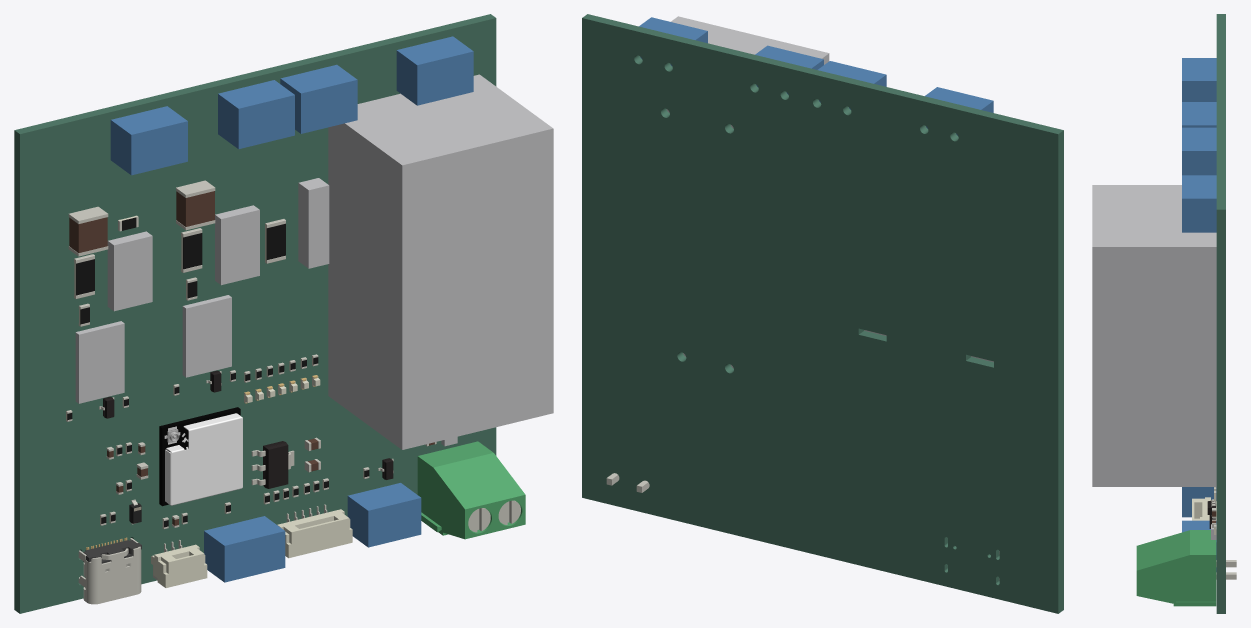
Rendered from board.glb.
3 views of the same model, side by side, from view 1: azimuth 30°, elevation 25°; view 2: azimuth 150°, elevation 25°; view 3: azimuth 270°, elevation 25° (orthographic). The views are drawn at different scales.
Parts seen in each view (by area): view 1: =>[0:1:1:34], PS1, =>[0:1:1:25]_985e35, =>[0:1:1:23]_5067a2, J12, J15, J14, J10, J13, J2, U8, U9 (+11 smaller); view 2: =>[0:1:1:34], PS1, J14, J15, J12, J13; view 3: PS1, =>[0:1:1:34], =>[0:1:1:25]_985e35, J12, J13, J15, J14, J10, =>[0:1:1:31]_3c3c9b, J2.
Part boxes in pixels (x1=…): =>[0:1:1:34]: x1=14, y1=14, x2=496, y2=613; PS1: x1=328, y1=74, x2=553, y2=449; =>[0:1:1:25]_985e35: x1=417, y1=441, x2=525, y2=539; =>[0:1:1:23]_5067a2: x1=165, y1=413, x2=242, y2=505; J12: x1=396, y1=36, x2=473, y2=105; J15: x1=110, y1=106, x2=187, y2=175; J14: x1=218, y1=80, x2=294, y2=149; J10: x1=204, y1=516, x2=285, y2=582; J13: x1=280, y1=64, x2=357, y2=133; J2: x1=347, y1=483, x2=421, y2=547; U8: x1=182, y1=295, x2=231, y2=377; U9: x1=75, y1=321, x2=124, y2=403; =>[0:1:1:34]: x1=582, y1=14, x2=1063, y2=613; PS1: x1=666, y1=16, x2=829, y2=368; J14: x1=818, y1=61, x2=886, y2=109; J15: x1=925, y1=87, x2=993, y2=135; J12: x1=639, y1=17, x2=707, y2=66; J13: x1=755, y1=45, x2=823, y2=94; PS1: x1=1092, y1=185, x2=1216, y2=486; =>[0:1:1:34]: x1=1216, y1=14, x2=1225, y2=613; =>[0:1:1:25]_985e35: x1=1136, y1=530, x2=1216, y2=606; J12: x1=1182, y1=175, x2=1216, y2=232; J13: x1=1182, y1=127, x2=1216, y2=175; J15: x1=1182, y1=58, x2=1216, y2=101; J14: x1=1182, y1=102, x2=1216, y2=127; J10: x1=1182, y1=487, x2=1216, y2=517; =>[0:1:1:31]_3c3c9b: x1=1192, y1=497, x2=1216, y2=520; J2: x1=1182, y1=520, x2=1216, y2=571.
Size of the model in its own units: 80 by 77 by 24.95.
